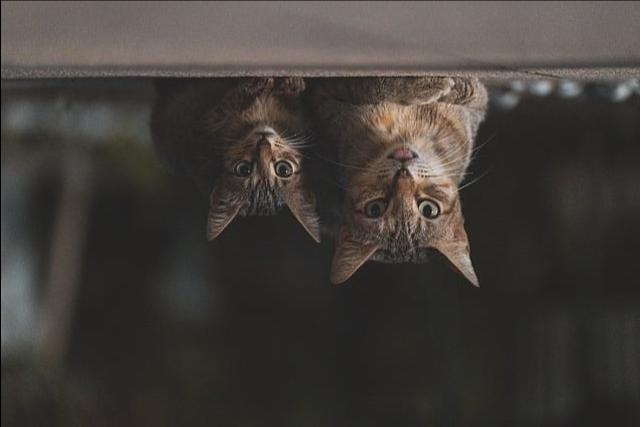Non_Gorille: (37, 0, 580, 422)
